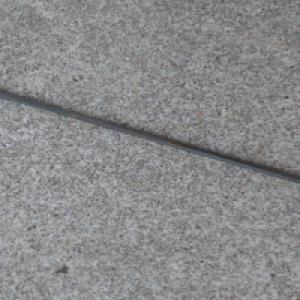LuggagePart: (0, 90, 300, 184)
